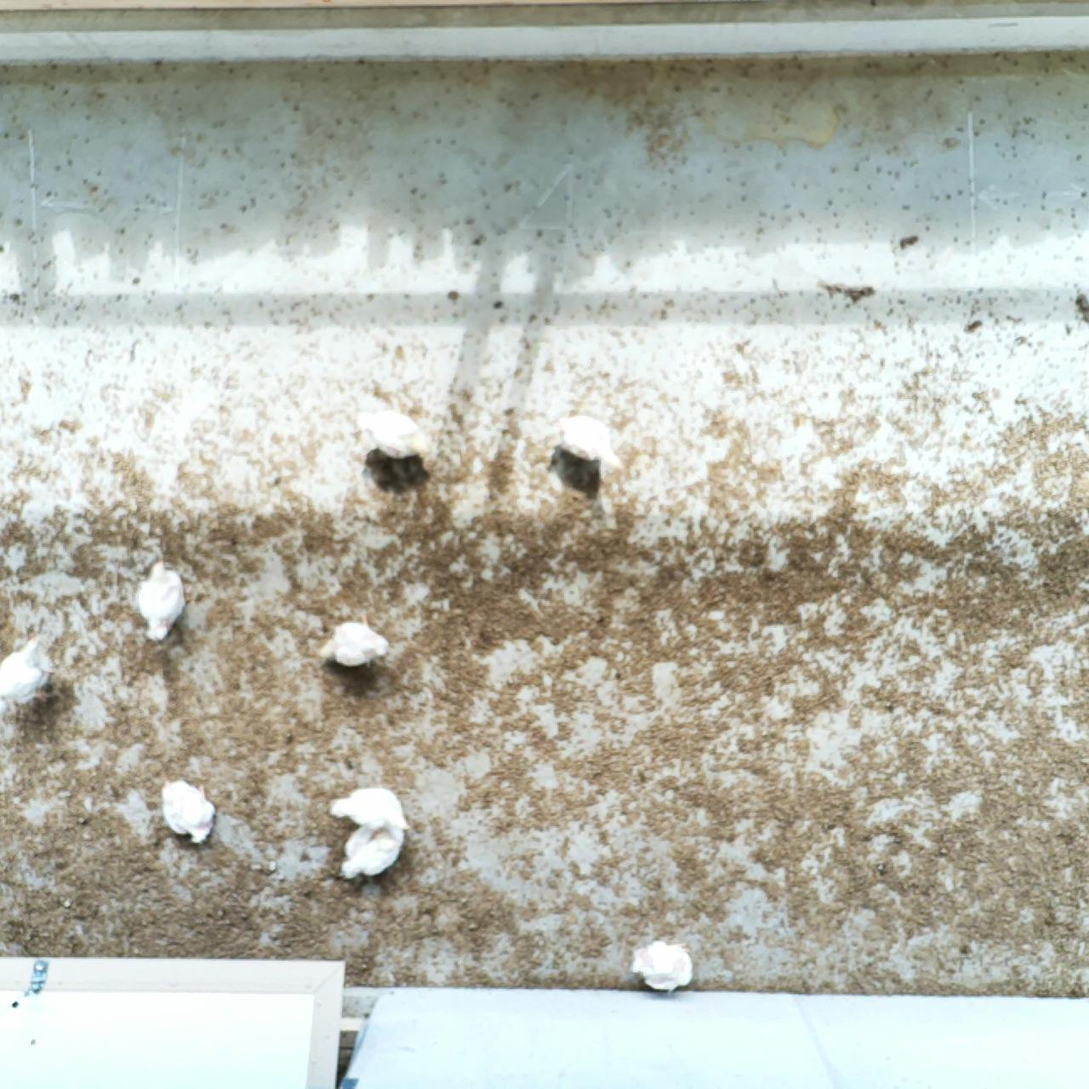chicken: (0, 634, 61, 716), (314, 609, 390, 673), (133, 558, 189, 644), (353, 405, 433, 464), (553, 411, 623, 476), (338, 818, 407, 883), (160, 774, 218, 851), (326, 783, 413, 834), (626, 935, 697, 994)
